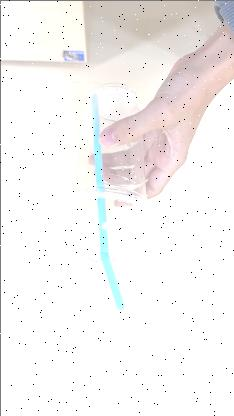Others: (54, 82, 156, 288)
